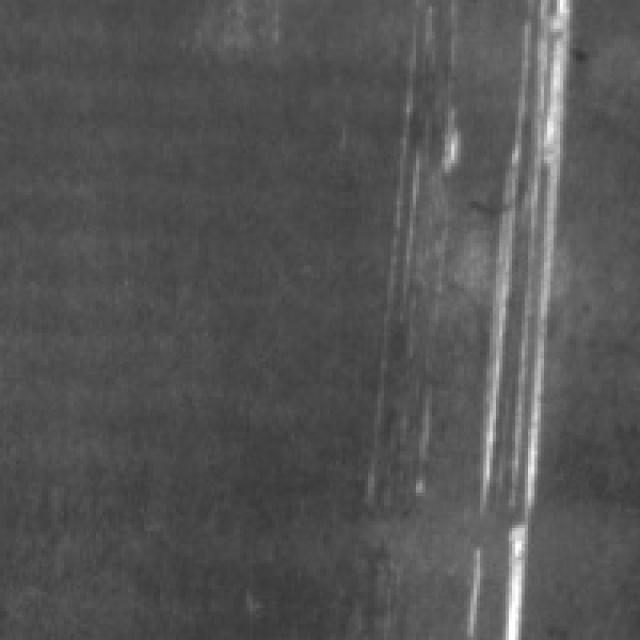scratches: (461, 0, 573, 634), (387, 86, 461, 240)
